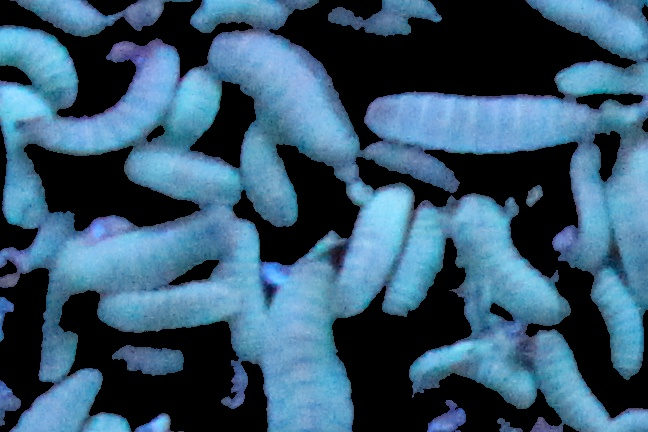larvae: (208, 35, 357, 171), (34, 43, 178, 152), (452, 196, 572, 321), (264, 262, 352, 432), (364, 92, 602, 154), (72, 205, 228, 285), (336, 184, 412, 315), (528, 332, 610, 431), (413, 344, 537, 408), (38, 243, 95, 378), (516, 1, 648, 59), (385, 198, 452, 312), (97, 282, 234, 333), (125, 148, 244, 204), (1, 88, 48, 229), (608, 139, 648, 304), (562, 144, 613, 266), (1, 28, 78, 107), (220, 219, 265, 354), (588, 277, 648, 377), (245, 125, 303, 225), (17, 367, 104, 432), (367, 140, 459, 187), (168, 65, 220, 148), (551, 61, 648, 100), (187, 1, 283, 37), (1, 1, 105, 33)
